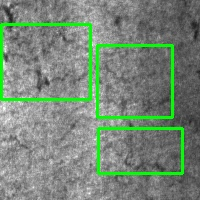crazing: (1, 24, 90, 99), (97, 45, 172, 117), (98, 128, 182, 173)
